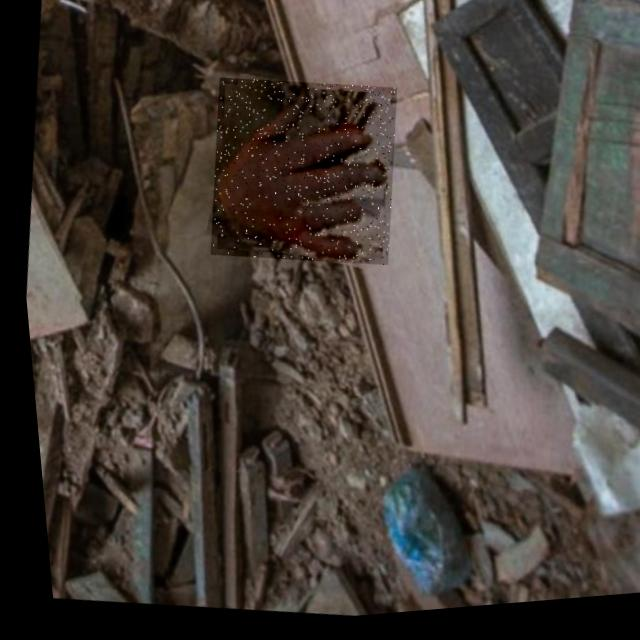Person in Rubble: (194, 69, 408, 282)
